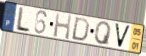6: (34, 10, 49, 36)
D: (70, 16, 91, 43)
H: (52, 12, 73, 42)
L: (14, 7, 32, 34)
Q: (94, 21, 113, 47)
V: (114, 22, 132, 50)
